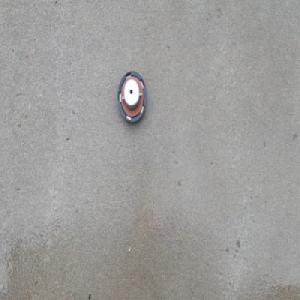FuelCap: (116, 68, 146, 123)
